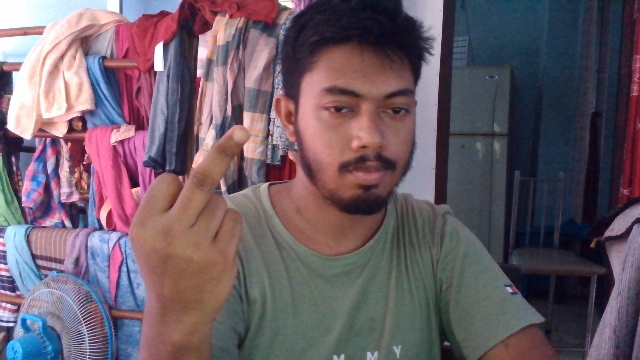fucku: (128, 121, 250, 313)
